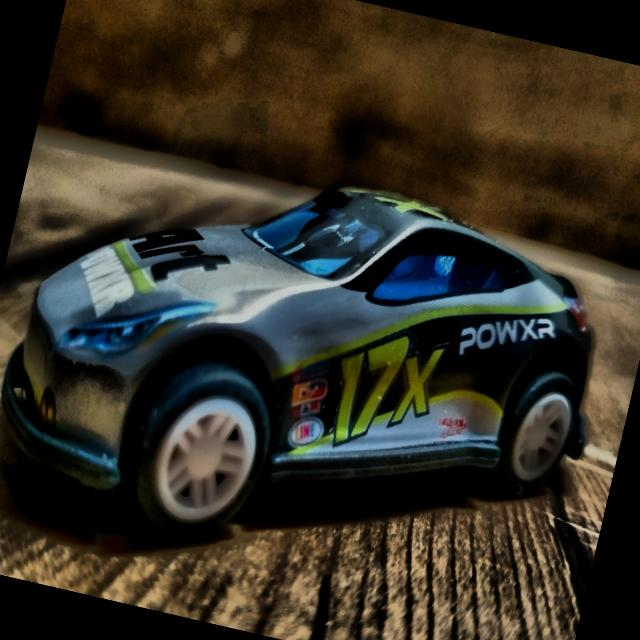Car: (0, 121, 627, 621)
